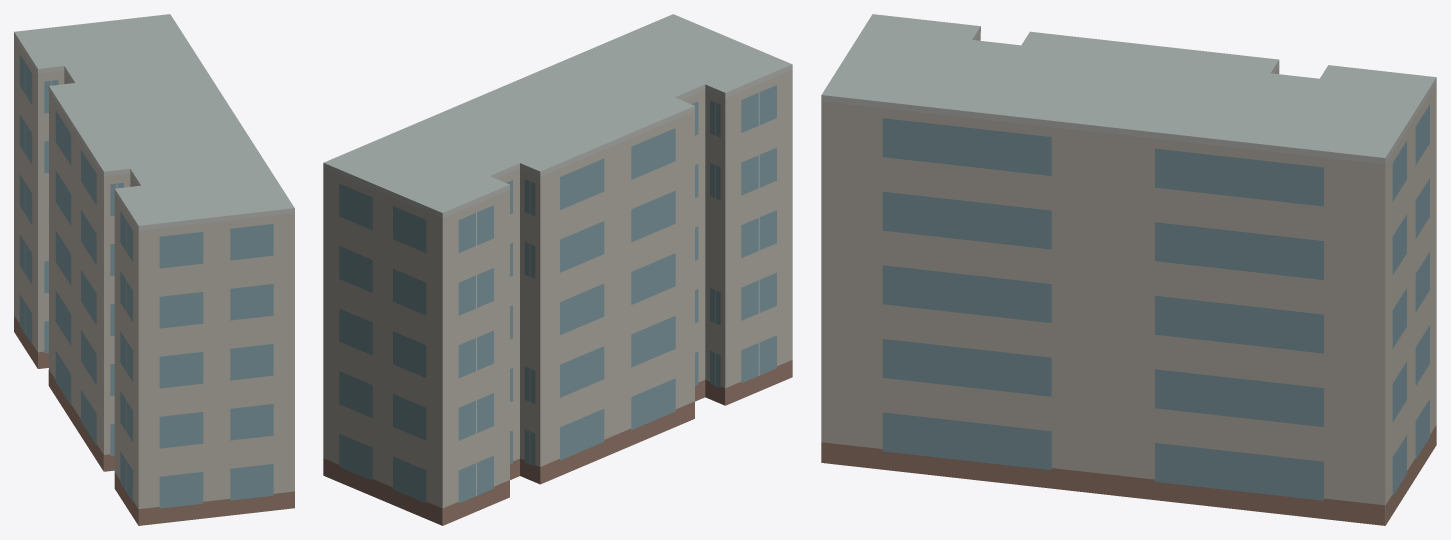
The model's file is survey-upis-33006339.glb.
3 views of the same model, side by side, from view 1: azimuth 30°, elevation 25°; view 2: azimuth 150°, elevation 25°; view 3: azimuth 270°, elevation 25° (orthographic). The views are drawn at different scales.
Visible parts, largest first — view 1: survey-upis-33006339.tmp; view 2: survey-upis-33006339.tmp; view 3: survey-upis-33006339.tmp.
Part boxes in pixels (box(x1,y1,x2,y2)): survey-upis-33006339.tmp: box(14, 14, 294, 525); survey-upis-33006339.tmp: box(323, 14, 792, 525); survey-upis-33006339.tmp: box(821, 14, 1436, 525).
Bounding box in the file's own units: 12.19 × 14.5 × 21.99.
